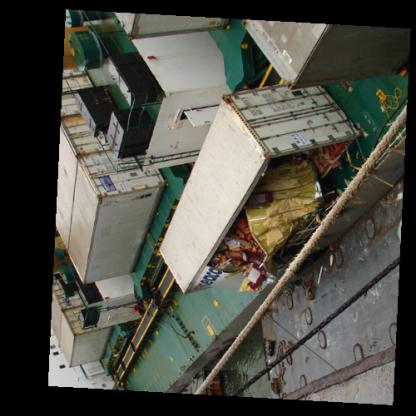Damage: (196, 116, 350, 306)
